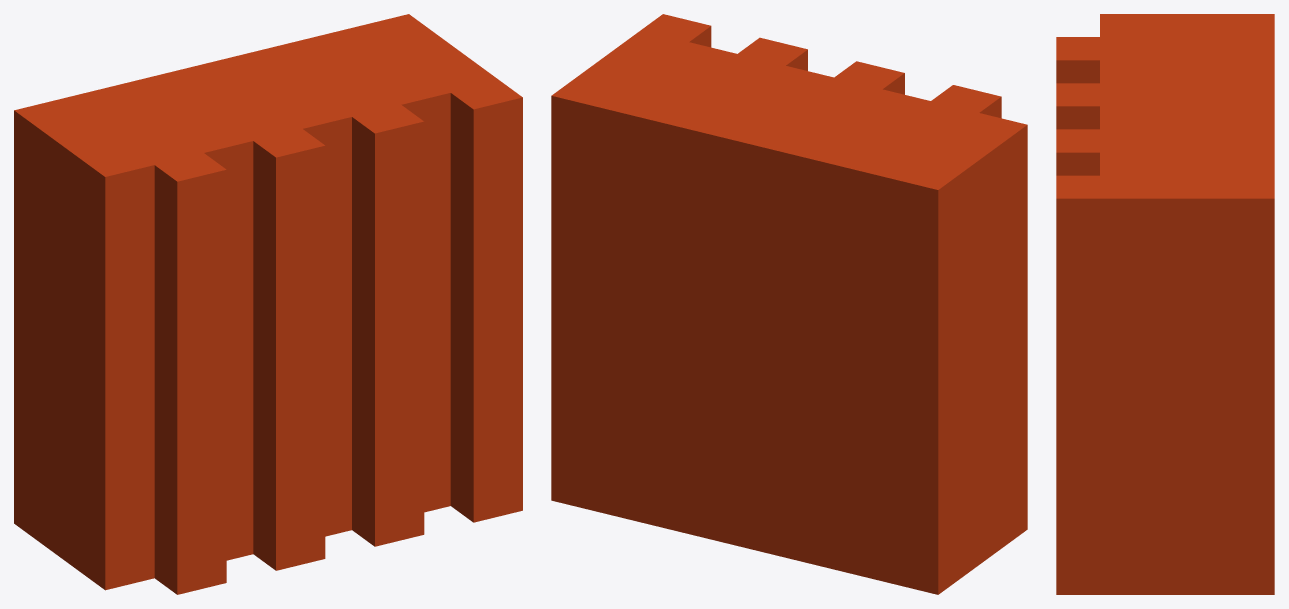
The model's file is bar_wall_straight.obj.
The picture shows the model from 3 angles, left to right: view 1: azimuth 30°, elevation 25°; view 2: azimuth 150°, elevation 25°; view 3: azimuth 270°, elevation 25°; orthographic projection. The views are drawn at different scales.
Visible parts, largest first — view 1: bar_wall_straight; view 2: bar_wall_straight; view 3: bar_wall_straight.
Part boxes in pixels (x1,y1,x2,y2): bar_wall_straight: (14, 14, 522, 594); bar_wall_straight: (551, 14, 1027, 594); bar_wall_straight: (1056, 14, 1274, 594).
Size of the model in its own units: 1 by 1 by 0.5.
